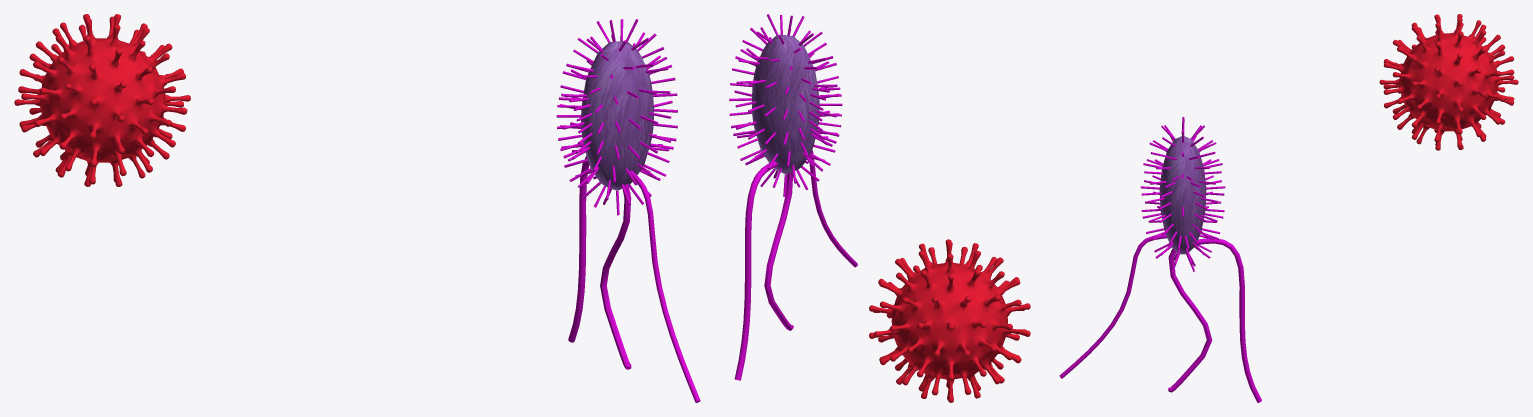
Rendered from virus.fbx.
The picture shows the model from 3 angles, left to right: view 1: azimuth 30°, elevation 25°; view 2: azimuth 150°, elevation 25°; view 3: azimuth 270°, elevation 25°; orthographic projection. The views are drawn at different scales.
Parts seen in each view (by area): view 1: GeoSphere001, Sphere001, Line029, Line033, Line034, Line032; view 2: GeoSphere001, Sphere001, Line029, Line032, Line034, Line033; view 3: GeoSphere001, Sphere001, Line029, Line032, Line034, Line033.
Boxes of the visible parts, x1,y1,x2,y2 form: GeoSphere001: [14, 14, 190, 186]; Sphere001: [581, 41, 653, 190]; Line029: [556, 19, 677, 215]; Line033: [629, 170, 700, 402]; Line034: [600, 184, 631, 369]; Line032: [568, 156, 589, 342]; GeoSphere001: [869, 239, 1030, 402]; Sphere001: [752, 35, 819, 174]; Line029: [729, 14, 842, 196]; Line032: [734, 161, 777, 380]; Line034: [764, 173, 793, 330]; Line033: [809, 149, 857, 267]; GeoSphere001: [1379, 14, 1518, 150]; Sphere001: [1159, 136, 1206, 254]; Line029: [1140, 117, 1225, 271]; Line032: [1196, 238, 1261, 402]; Line034: [1168, 248, 1212, 392]; Line033: [1059, 234, 1166, 378].
Bounding box in the file's own units: 397 × 286 × 423.
3 materials, 1 textured.
